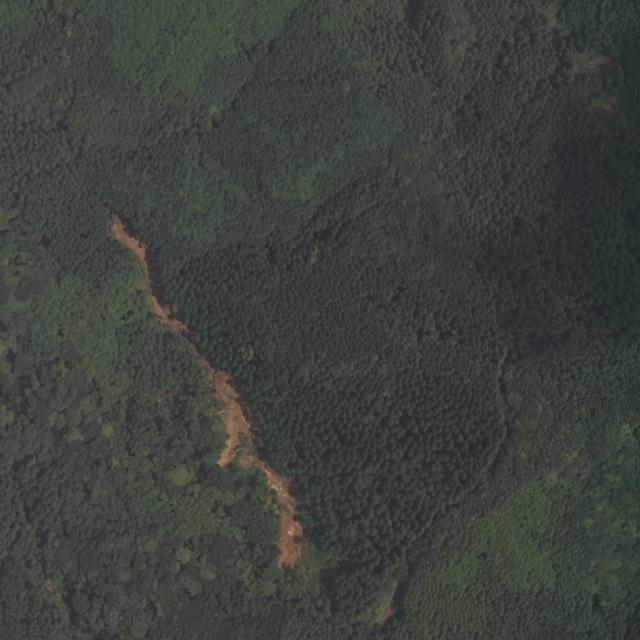landslide: (191, 343, 304, 570), (108, 214, 189, 341)
